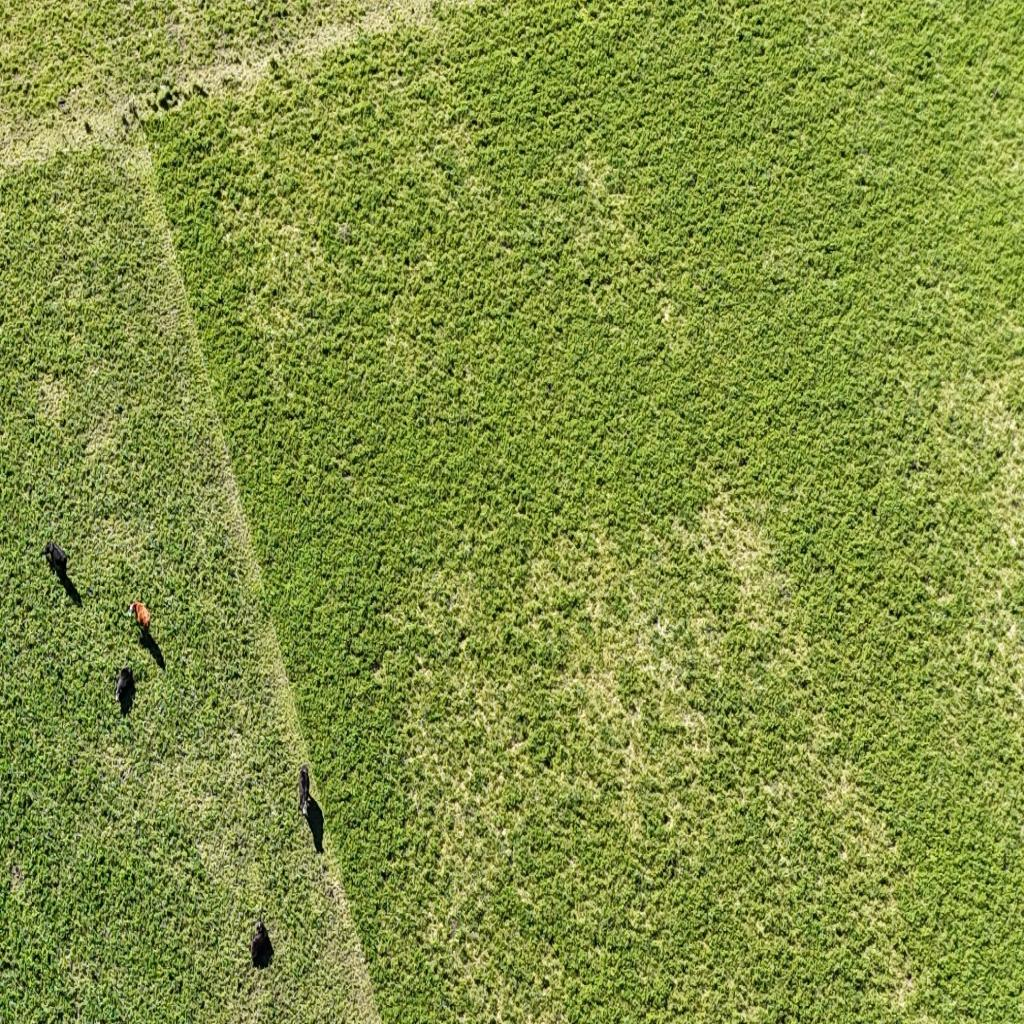cow: (41, 538, 74, 583), (250, 917, 274, 967), (296, 760, 315, 822), (114, 662, 136, 713), (130, 596, 151, 638)
